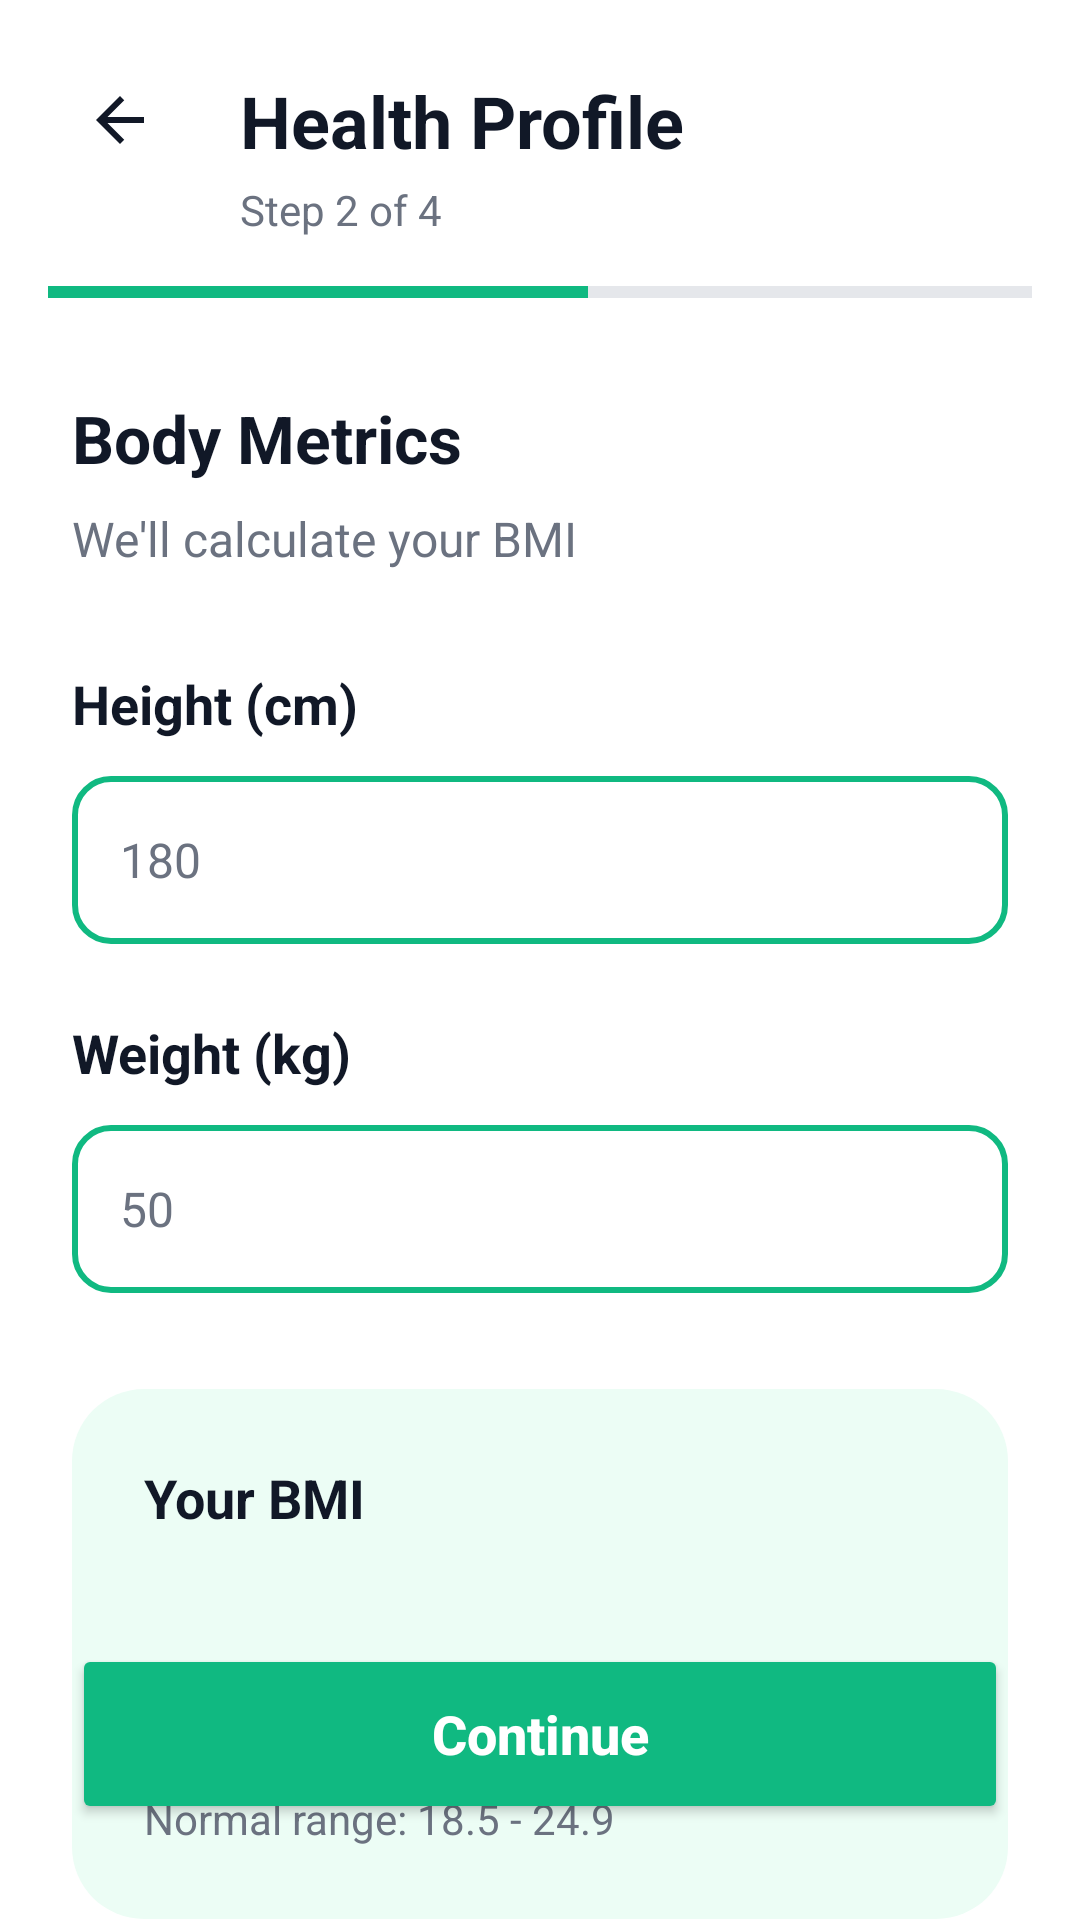

Locate icon controls on the screen. Image size 1080*1920, boxes as BBox(x1, y1, x2, y2).
arrow back: BBox(96, 96, 144, 144)
